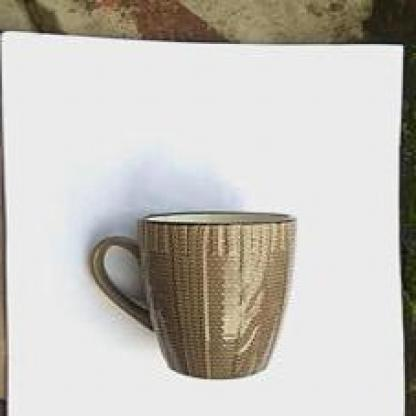mug: (99, 198, 308, 378)
